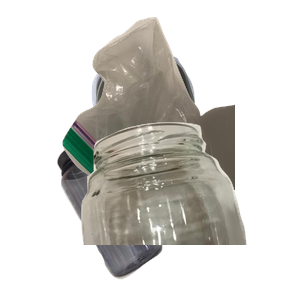glass: (74, 120, 300, 300)
metal: (89, 48, 276, 192)
plastic: (54, 136, 209, 300)
trash: (60, 14, 300, 194)
